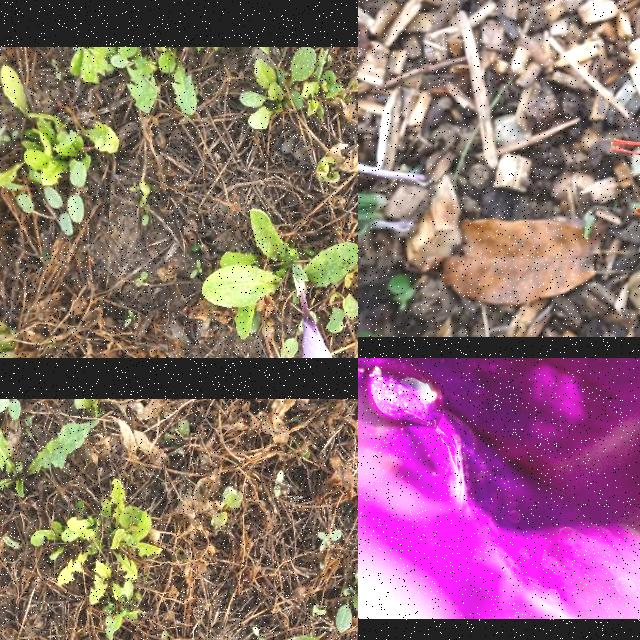flower: (609, 103, 640, 216), (301, 316, 337, 358)
